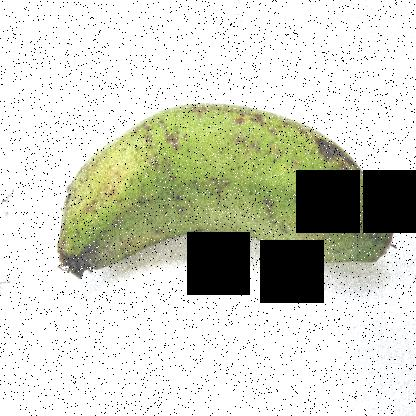unripe: (48, 82, 404, 291)
